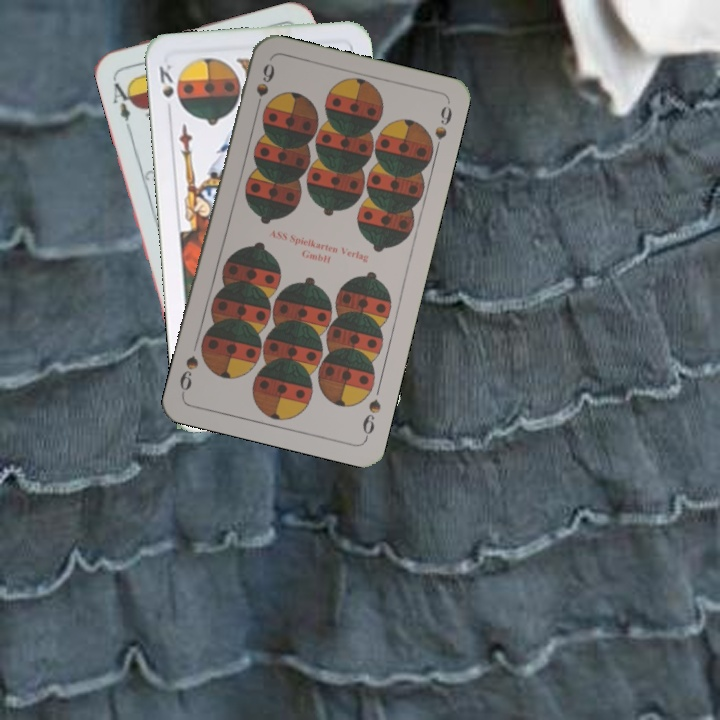EA: (108, 73, 138, 124)
S9: (251, 60, 277, 116), (358, 395, 384, 442)
SK: (155, 60, 182, 108)
